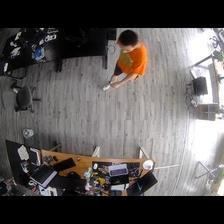normal: (103, 30, 149, 93)
